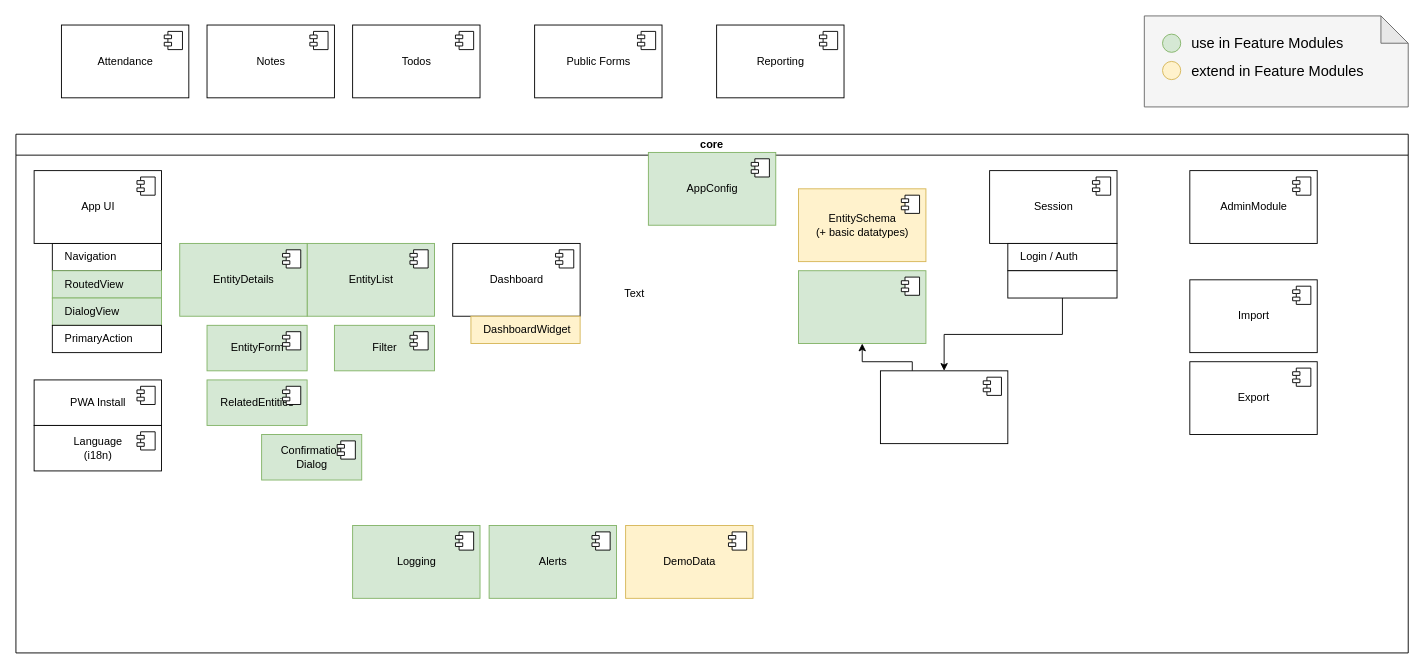
The diagram is 1424 pixels wide and 669 high, and some of its shapes have lost their labels. The centre of each missing label's shape, as x and y in pixels:
Database: (944,407)
EntityMapperService: (862,307)
SyncService: (1062,284)
